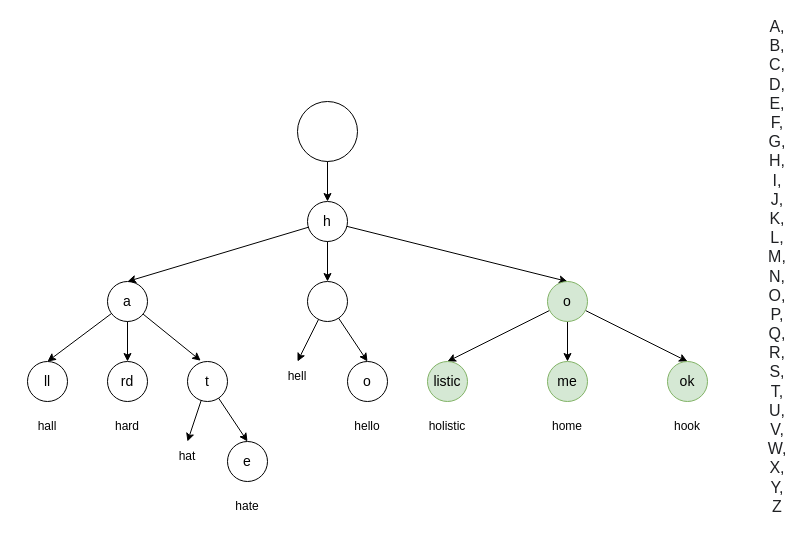
Some shapes in this 804 by 539 pixel diagram are drawn without their labels. Here are the shapes that lost their labels. From the top down, the centre of each, then its label:
(x=327, y=131): ROOT
(x=327, y=301): ell
